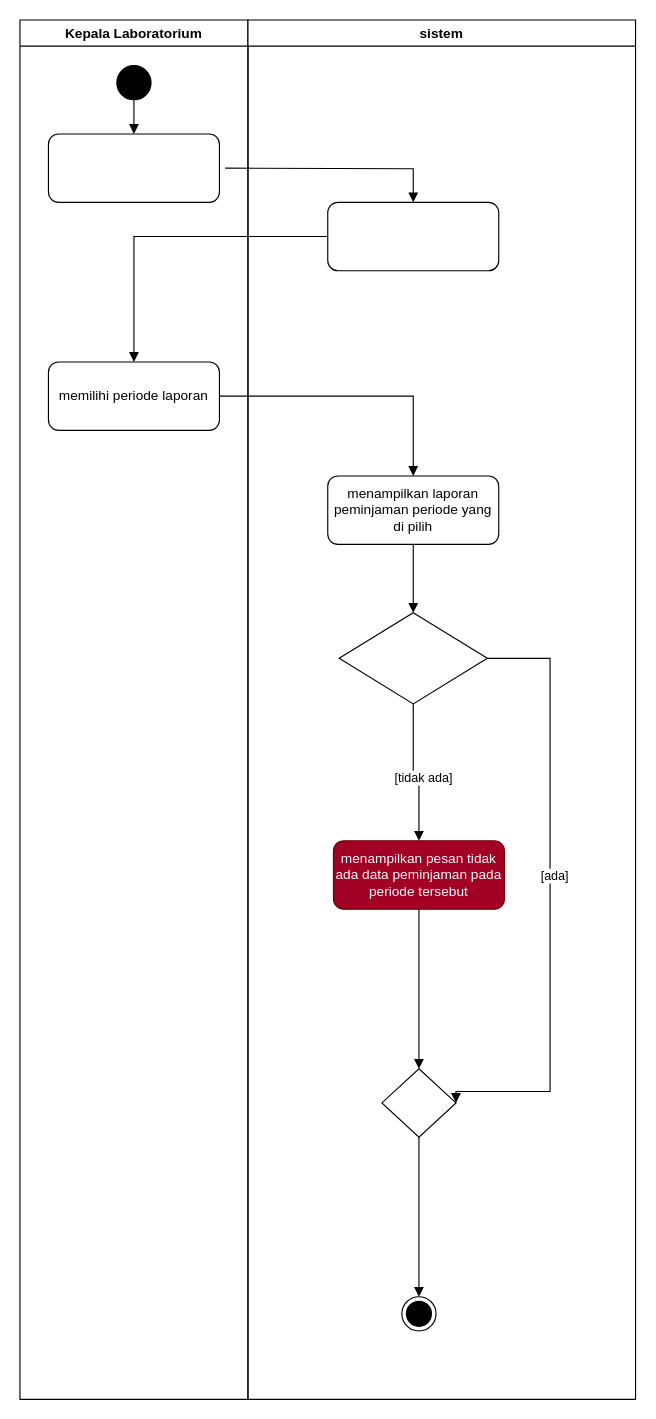
Image size: 656x1419. Some labels were removed from this diagram. The shapes that lost their labels are listed below. From the top down, each one's centre as x and y in pixels, then its label:
At point 133,167: "Membuka fungsi lihat laporan peminjaman".
At point 413,236: "menampilkan daftar periode laporan".
At point 412,658: "ada data peminjaman ?".
